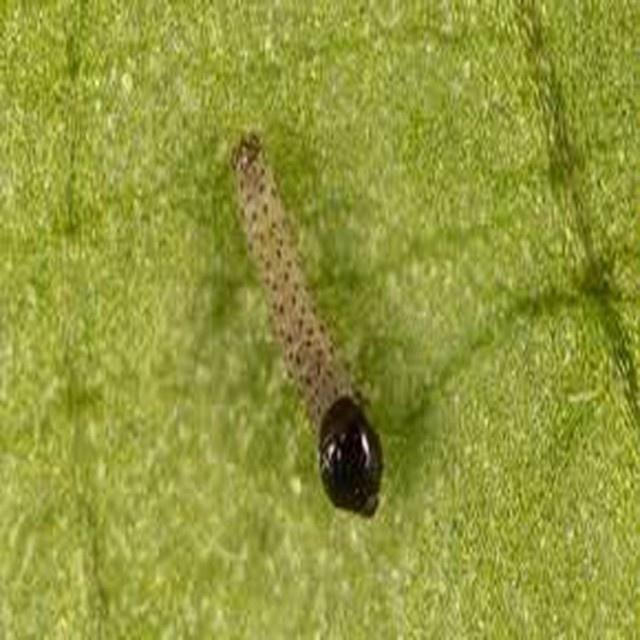gusano_cogollero: (228, 132, 378, 514)
